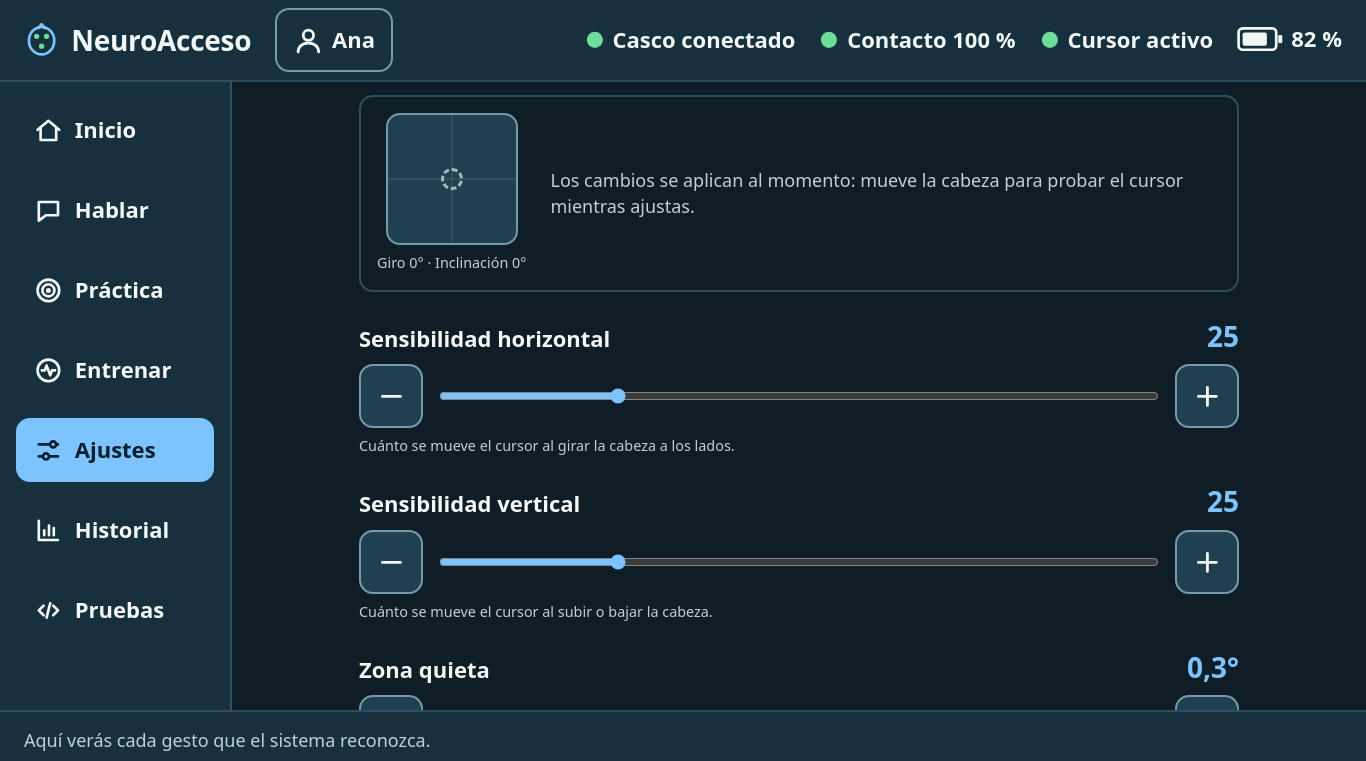
pantalla de ajustes › un cambio se guarda solo, completo, y el motor lo aplica al instante
The image size is (1366, 761).
(page scrolled)
Click the button named "Subir Sensibilidad horizontal" at (1207, 396), box [1175,364,1239,428]
(page scrolled)
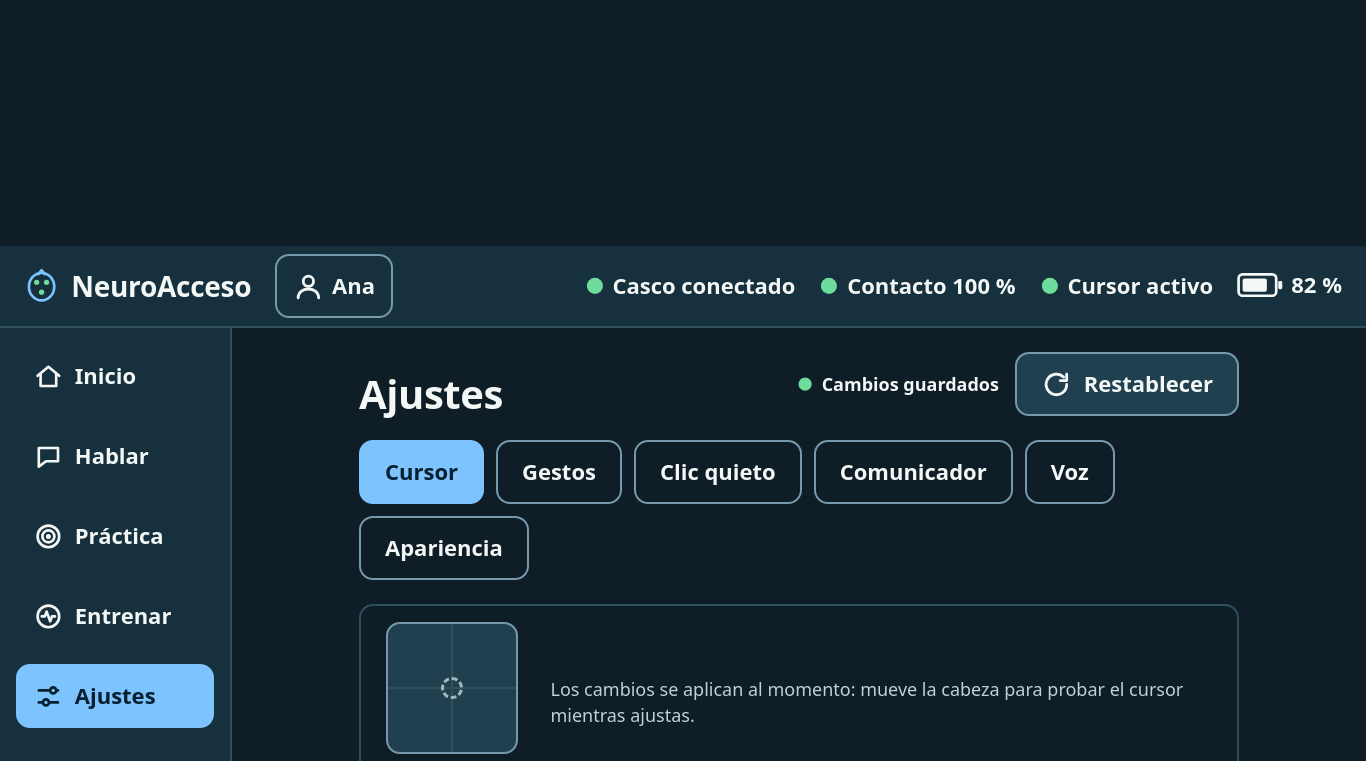
expect the message named "Estado del guardado" reads "Cambios guardados": met, box [822,372,999,396]
